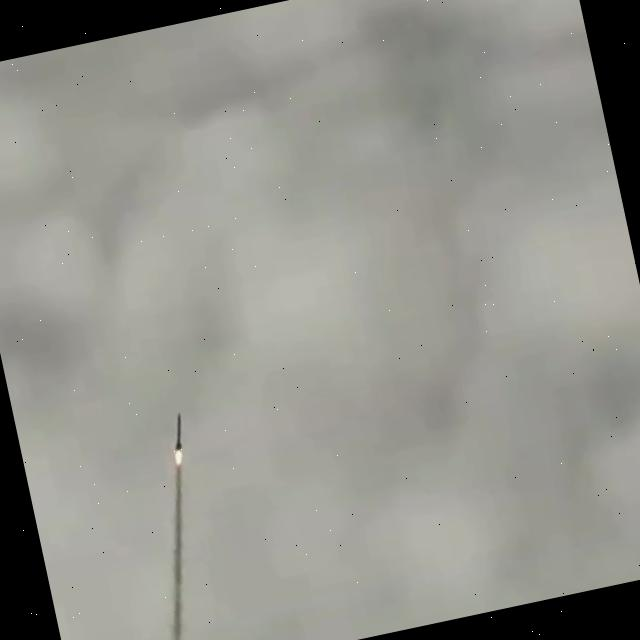smoke_trail_with_rocket: (168, 414, 184, 640)
